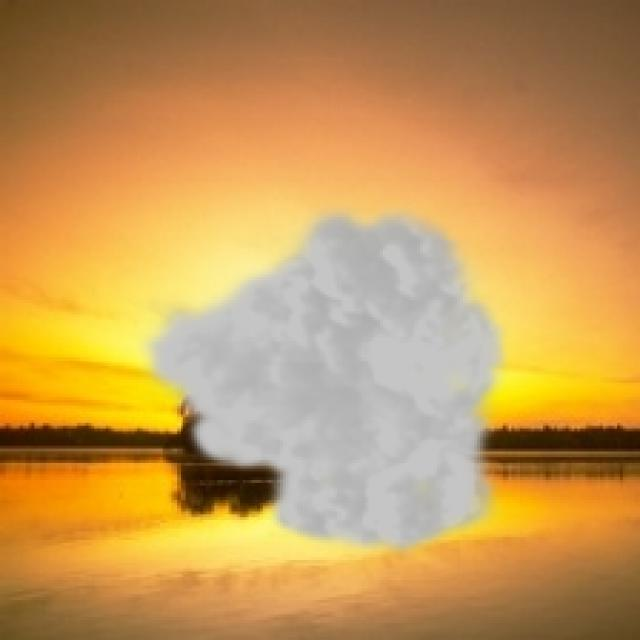smoke: (134, 197, 512, 560)
